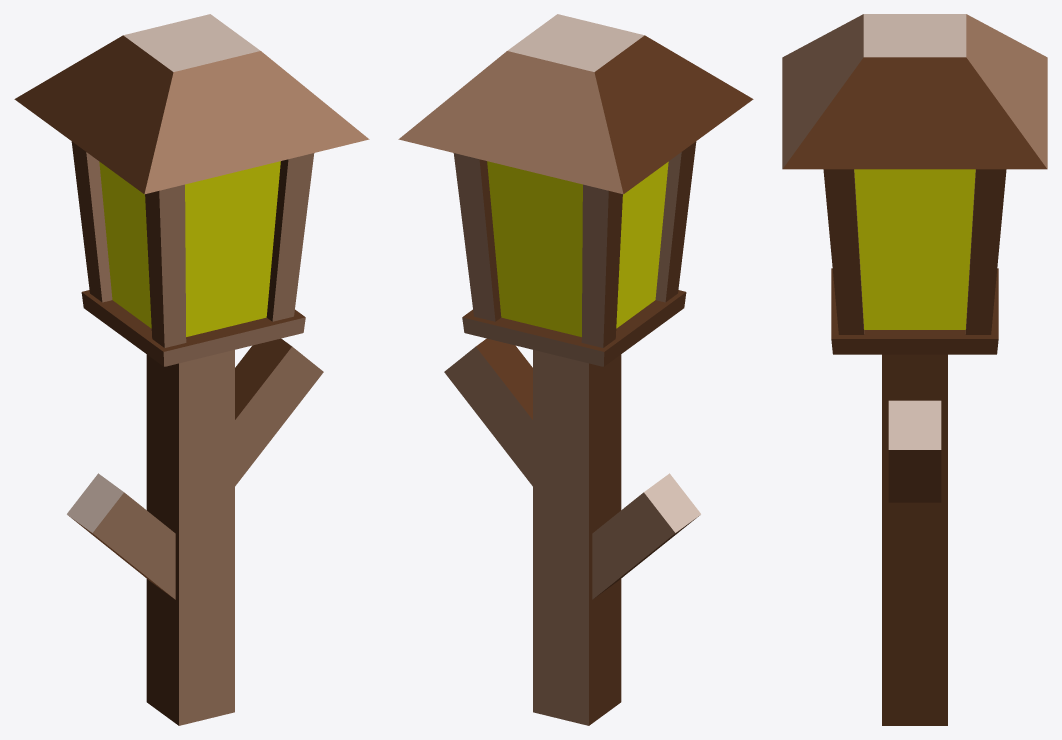
The model's file is streetLight_B.fbx.
The picture shows the model from 3 angles, left to right: view 1: azimuth 30°, elevation 25°; view 2: azimuth 150°, elevation 25°; view 3: azimuth 270°, elevation 25°; orthographic projection.
Visible parts, largest first — view 1: pCube1, iceTree_branch3, pCube2, iceTree_branch13, iceTree_branch2, iceTree_branch9, iceTree_branch12, iceTree_branch8, iceTree_branch10; view 2: pCube1, iceTree_branch3, pCube2, iceTree_branch13, iceTree_branch2, iceTree_branch10, iceTree_branch12, iceTree_branch11, iceTree_branch9; view 3: pCube1, iceTree_branch3, pCube2, iceTree_branch13, iceTree_branch8, iceTree_branch11, iceTree_branch12.
Boxes of the visible parts, left/top/right/bottom form: pCube1: left=14, top=14, right=369, bottom=194; iceTree_branch3: left=146, top=350, right=234, bottom=725; pCube2: left=99, top=161, right=280, bottom=336; iceTree_branch13: left=235, top=338, right=323, bottom=486; iceTree_branch2: left=67, top=473, right=175, bottom=599; iceTree_branch9: left=145, top=184, right=186, bottom=347; iceTree_branch12: left=81, top=290, right=305, bottom=366; iceTree_branch8: left=266, top=153, right=314, bottom=321; iceTree_branch10: left=71, top=141, right=112, bottom=302; pCube1: left=398, top=14, right=753, bottom=194; iceTree_branch3: left=533, top=350, right=621, bottom=725; pCube2: left=487, top=161, right=668, bottom=336; iceTree_branch13: left=444, top=338, right=532, bottom=486; iceTree_branch2: left=592, top=473, right=700, bottom=599; iceTree_branch10: left=581, top=184, right=622, bottom=347; iceTree_branch12: left=462, top=290, right=686, bottom=366; iceTree_branch11: left=453, top=153, right=501, bottom=321; iceTree_branch9: left=655, top=141, right=696, bottom=302; pCube1: left=782, top=14, right=1047, bottom=169; iceTree_branch3: left=882, top=354, right=947, bottom=725; pCube2: left=854, top=169, right=975, bottom=329; iceTree_branch13: left=888, top=400, right=941, bottom=502; iceTree_branch8: left=823, top=169, right=864, bottom=334; iceTree_branch11: left=965, top=169, right=1006, bottom=334; iceTree_branch12: left=831, top=268, right=998, bottom=354.
Size of the model in its own units: 49.66 by 136 by 48.29.
2 materials, 1 textured.
